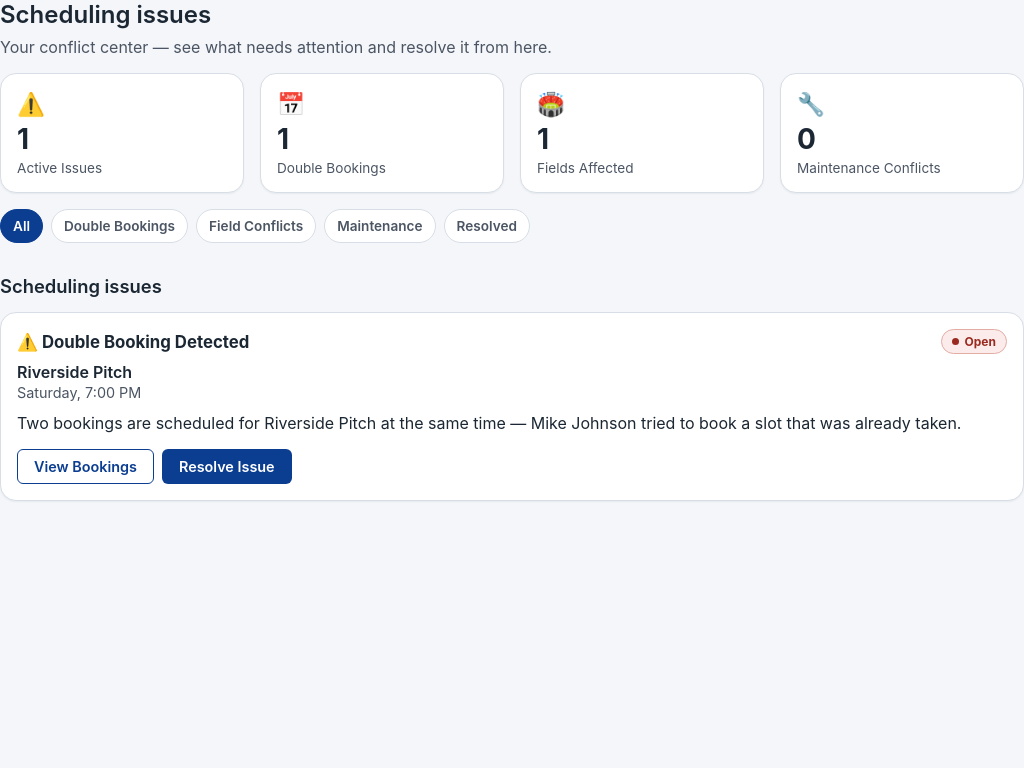
Test: SchedulingIssuesPage › shows an error and keeps the issue open if resolving fails
Expected: the text "⚠️ Double Booking Detected" is shown, [17,332,249,352]
Click the button "Resolve Issue" at (227, 467), box [162,449,292,484]
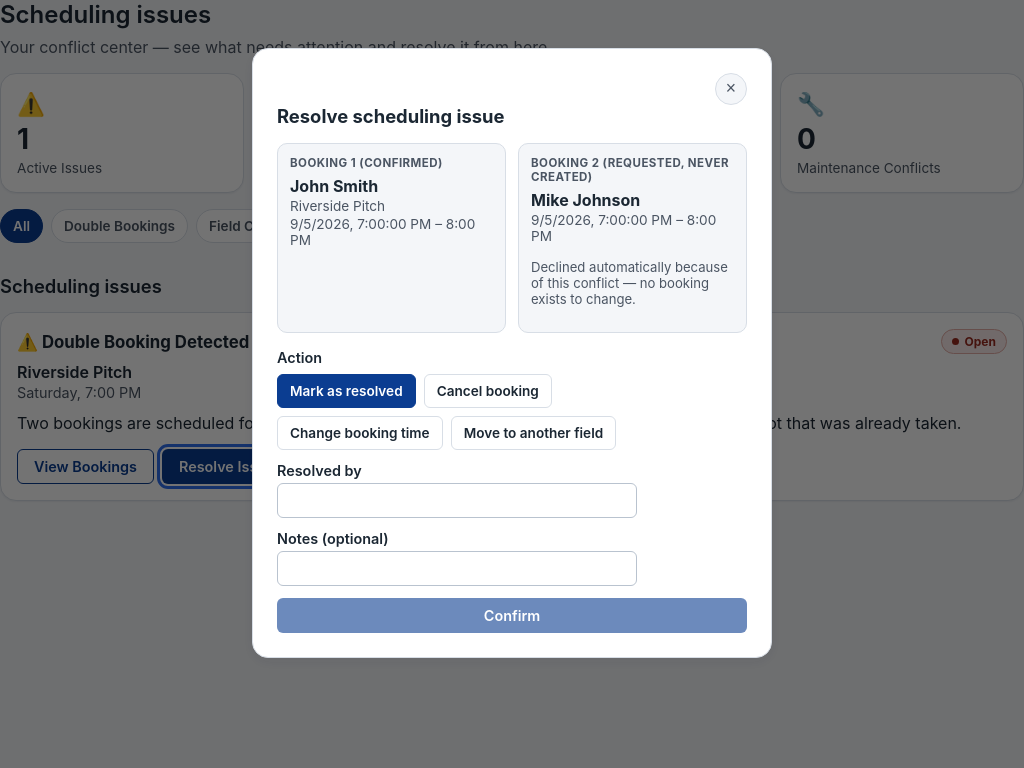
Type "Manager Mo" into the field labelled "Resolved by" at (457, 501), box [277,483,637,518]
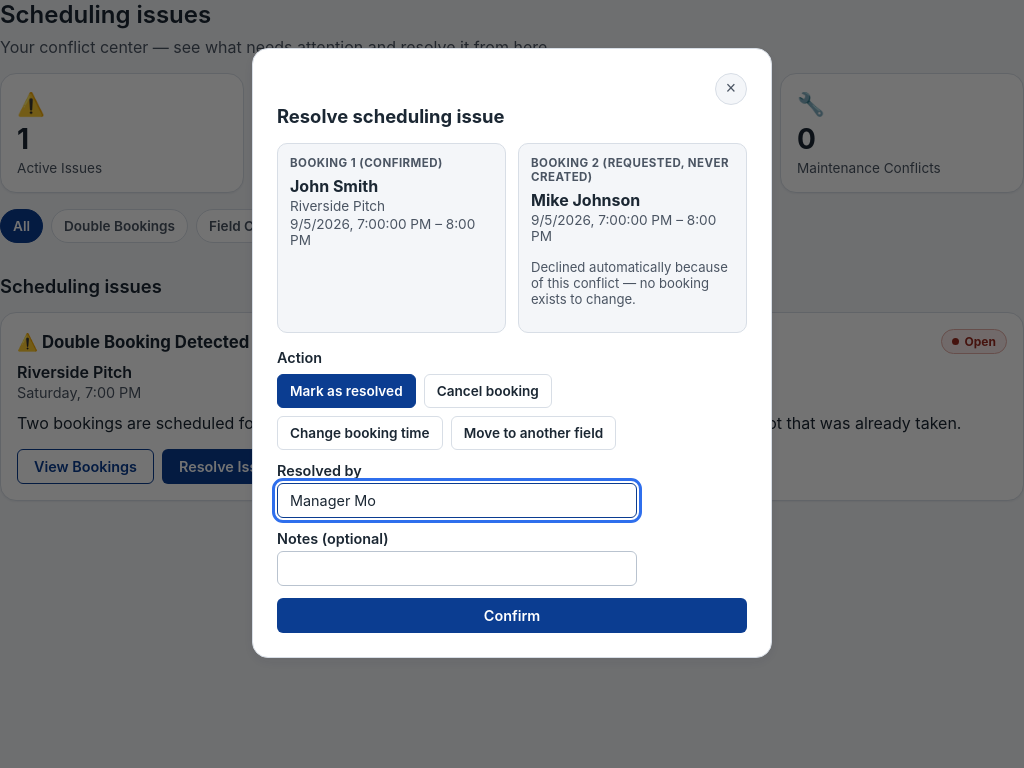
Click the button "Confirm" at (512, 616), box [277,598,747,633]
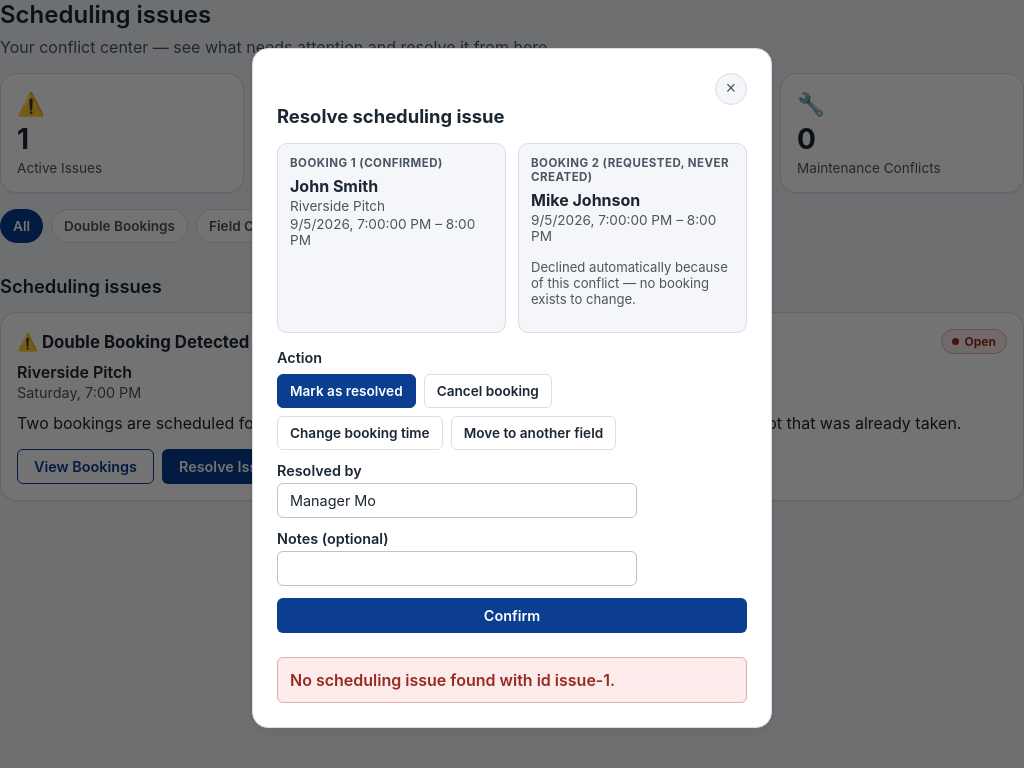
Now the dialog is shown, box [252,48,772,728]
Now the message shows "No scheduling issue found", box [290,670,615,690]
